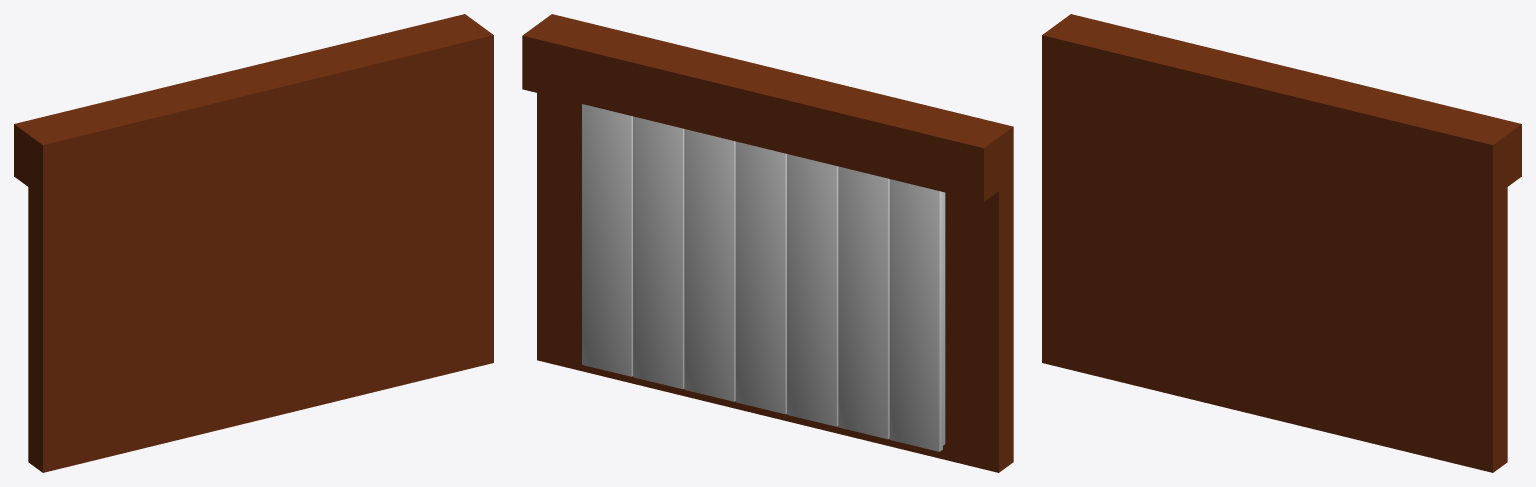
The model's file is pianino.fbx.
The picture shows the model from 3 angles, left to right: view 1: azimuth 30°, elevation 25°; view 2: azimuth 150°, elevation 25°; view 3: azimuth 330°, elevation 25°; orthographic projection. The views are drawn at different scales.
Parts seen in each view (by area): view 1: KeyBoard; view 2: KeyBoard, Key7, Key4, Key6, Key2, Key5, Key3, Key1; view 3: KeyBoard.
Boxes of the visible parts, left/top/right/bottom form: KeyBoard: left=14, top=14, right=493, bottom=472; KeyBoard: left=522, top=14, right=1013, bottom=472; Key7: left=889, top=179, right=945, bottom=451; Key4: left=735, top=141, right=786, bottom=414; Key6: left=838, top=166, right=889, bottom=439; Key2: left=633, top=116, right=684, bottom=389; Key5: left=787, top=154, right=838, bottom=426; Key3: left=684, top=129, right=735, bottom=401; Key1: left=582, top=104, right=632, bottom=376; KeyBoard: left=1042, top=14, right=1521, bottom=472.
Size of the model in its own units: 1800 by 1250 by 200.
